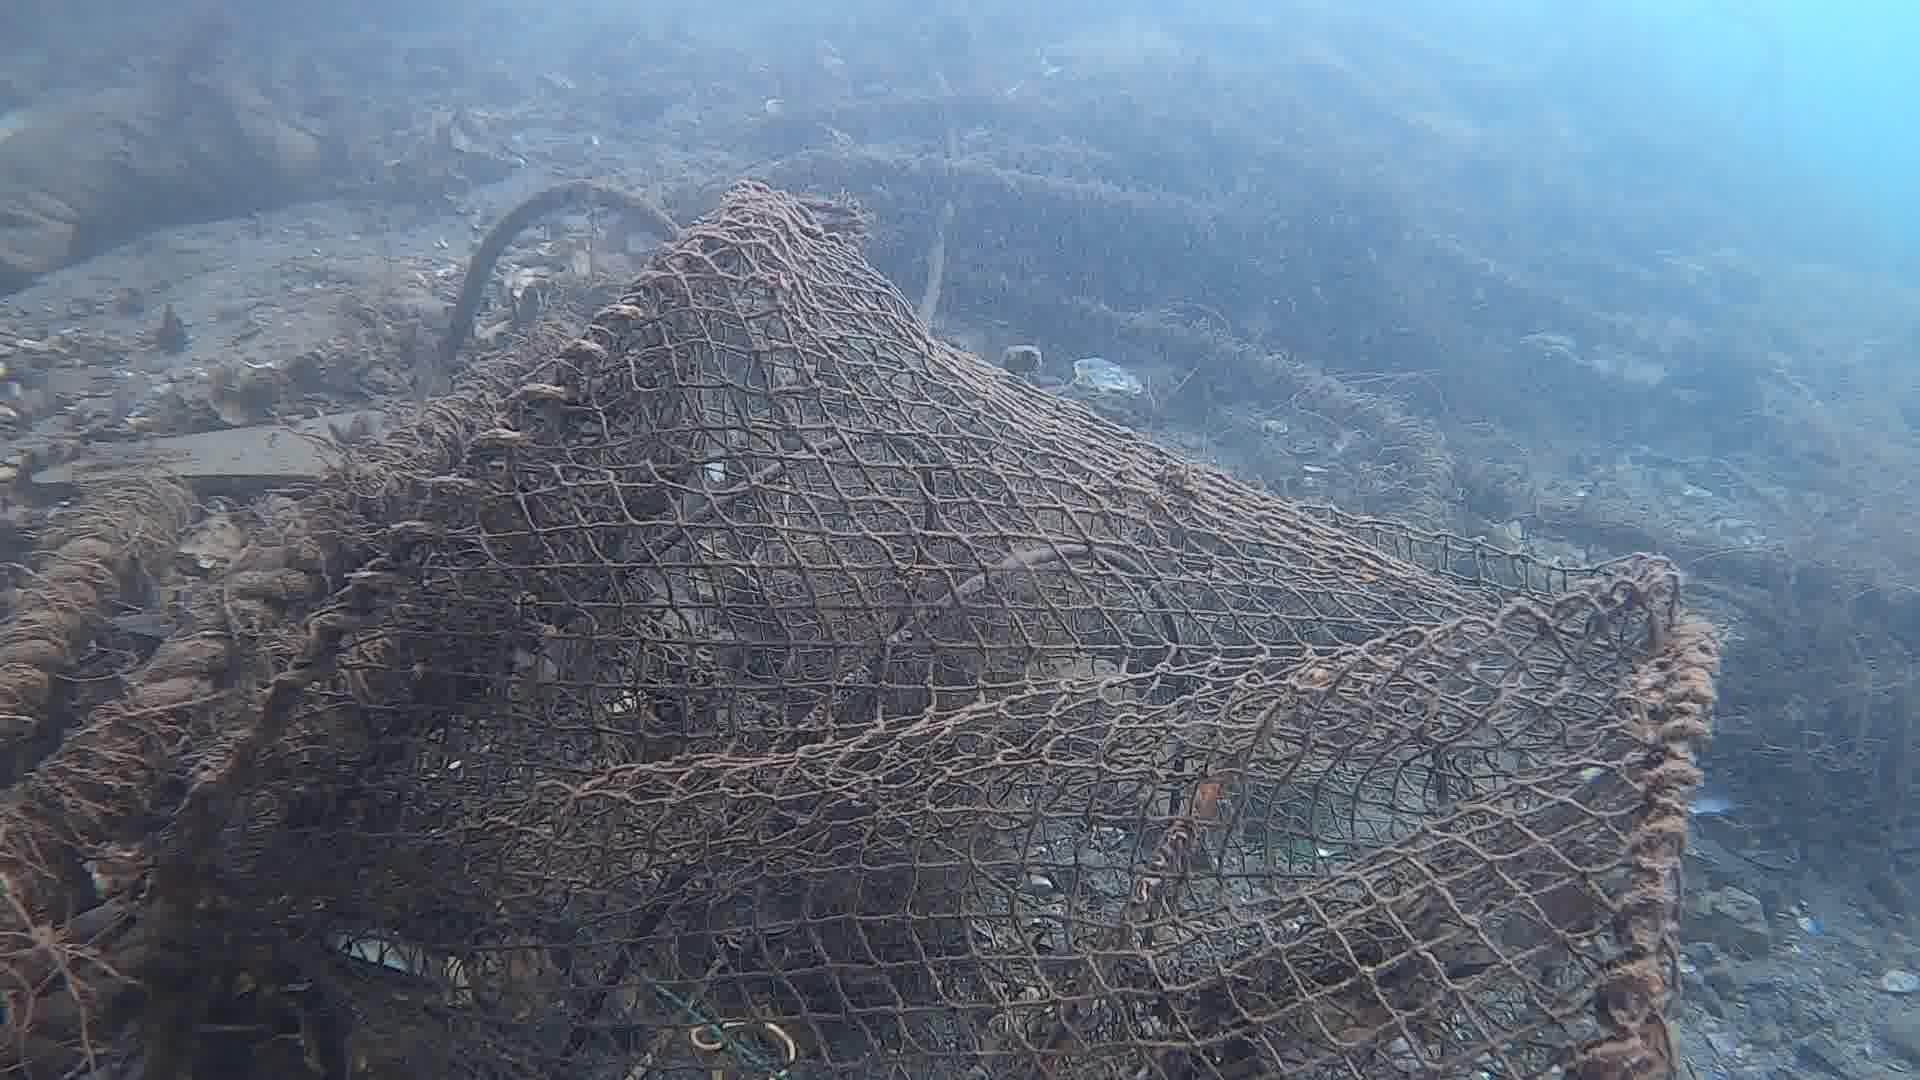bundle of ropes: (0, 539, 326, 709)
spring fish trap: (136, 178, 1726, 1080)
